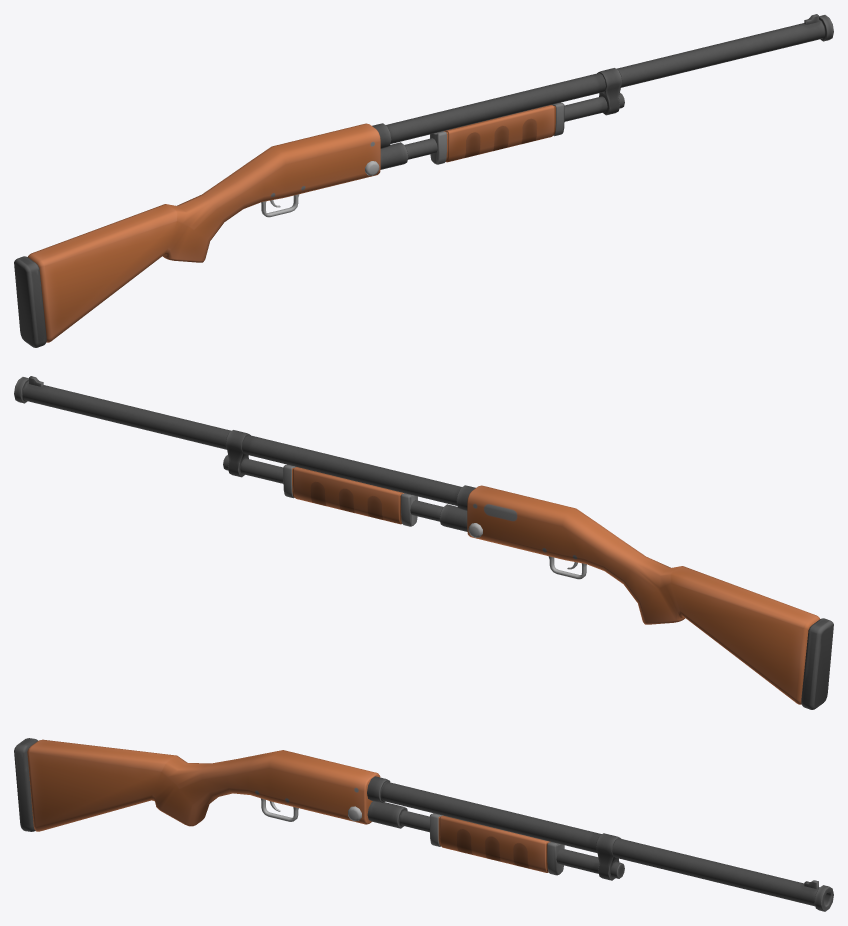
File: weapon-shotgun.glb
3 renders of one model, top to bottom at view 1: azimuth 30°, elevation 25°; view 2: azimuth 150°, elevation 25°; view 3: azimuth 330°, elevation 25°, orthographic.
Visible parts, largest first — view 1: weapon-shotgun; view 2: weapon-shotgun; view 3: weapon-shotgun.
Boxes of the visible parts, box(x1,y1,x2,y2) form: weapon-shotgun: box(14, 14, 833, 347); weapon-shotgun: box(14, 376, 833, 709); weapon-shotgun: box(14, 738, 833, 911).
Size of the model in its own units: 2.02 by 0.3294 by 0.0887.
1 material, 1 textured.
